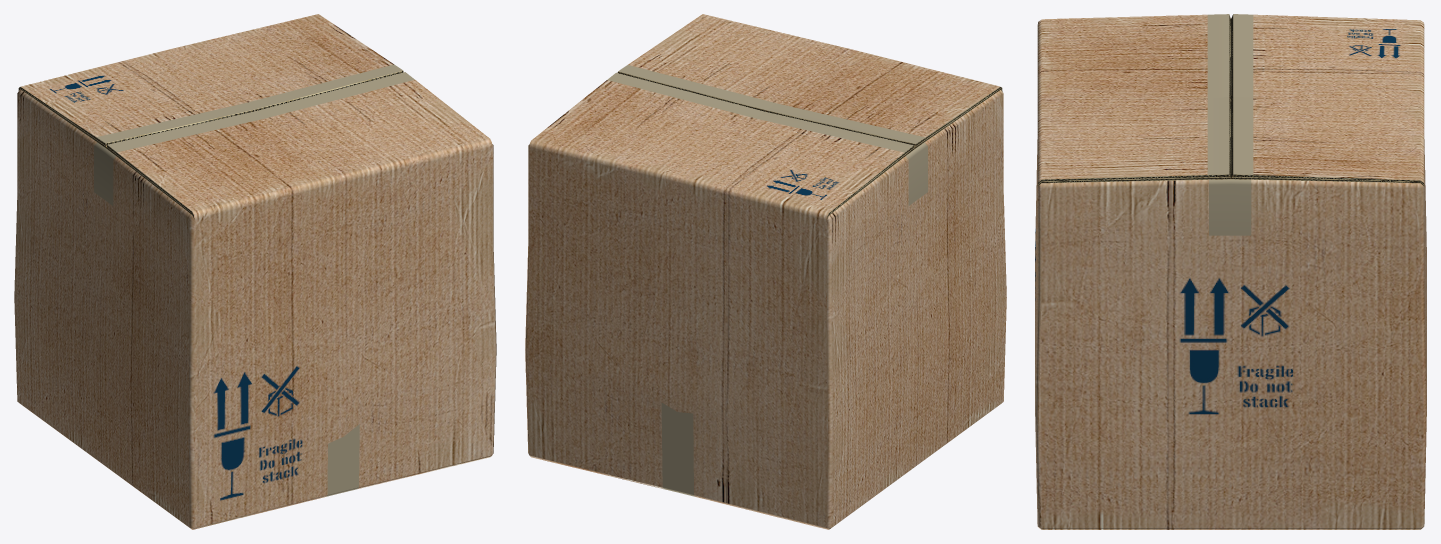
File: !cardbox_0.fbx
3 renders of one model, left to right at view 1: azimuth 30°, elevation 25°; view 2: azimuth 150°, elevation 25°; view 3: azimuth 270°, elevation 25°, orthographic. The views are drawn at different scales.
Visible parts, largest first — view 1: cardbox_GEO; view 2: cardbox_GEO; view 3: cardbox_GEO.
Part boxes in pixels (x1=…): cardbox_GEO: x1=14, y1=14, x2=496, y2=529; cardbox_GEO: x1=525, y1=14, x2=1006, y2=529; cardbox_GEO: x1=1035, y1=14, x2=1426, y2=529.
Bounding box in the file's own units: 132 × 134 × 132.
Materials: 2 (1 with a texture image).
